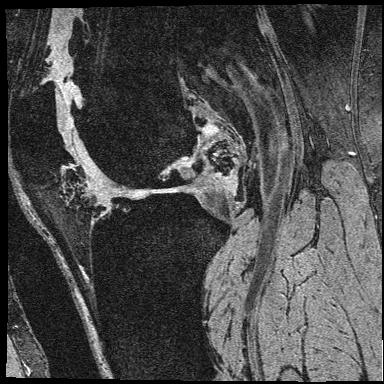SagKneeJointArea: (9, 80, 231, 292)
